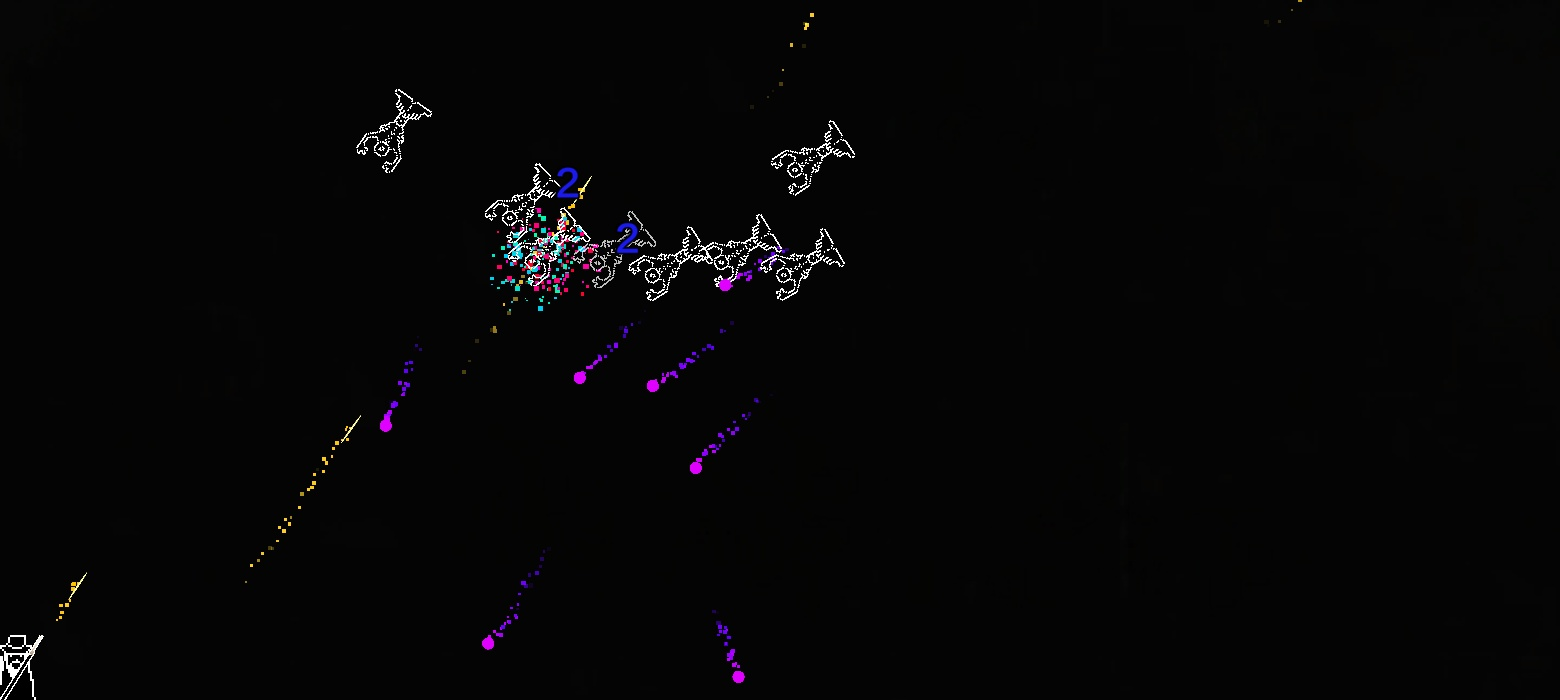enemy: (484, 162, 567, 243), (507, 207, 591, 287), (356, 89, 433, 174), (698, 212, 783, 289), (771, 119, 856, 196), (573, 211, 656, 289), (628, 225, 713, 301), (760, 227, 845, 301)
